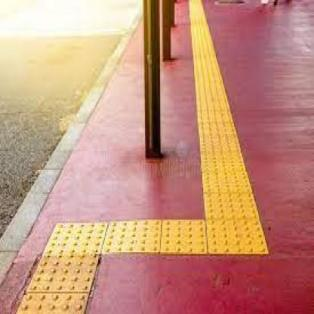Podoctatil: (20, 3, 271, 314)
